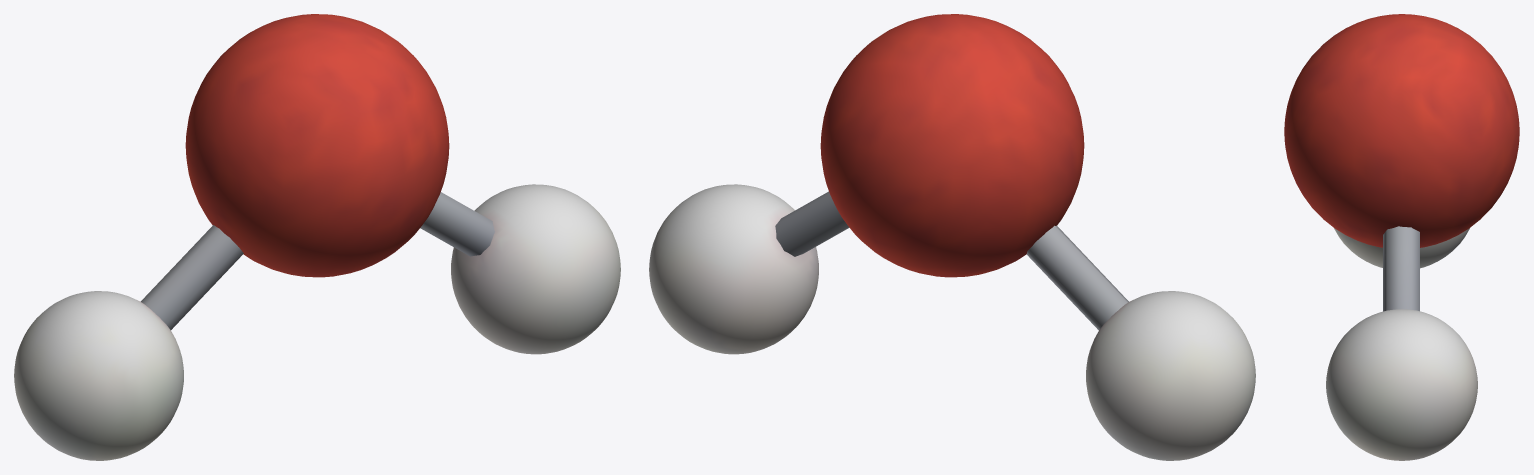
File: water-molecule.glb
The picture shows the model from 3 angles, left to right: view 1: azimuth 30°, elevation 25°; view 2: azimuth 150°, elevation 25°; view 3: azimuth 270°, elevation 25°; orthographic projection. The views are drawn at different scales.
Visible parts, largest first — view 1: water-molecule-oxygen, water-molecule-hydrogen, water-molecule-bonds; view 2: water-molecule-oxygen, water-molecule-hydrogen, water-molecule-bonds; view 3: water-molecule-oxygen, water-molecule-hydrogen, water-molecule-bonds.
Boxes of the visible parts, x1,y1,x2,y2 form: water-molecule-oxygen: (185,14,449,277); water-molecule-hydrogen: (14,184,620,460); water-molecule-bonds: (140,192,494,329); water-molecule-oxygen: (820,14,1084,277); water-molecule-hydrogen: (649,184,1255,460); water-molecule-bonds: (775,191,1128,330); water-molecule-oxygen: (1284,14,1519,247); water-molecule-hydrogen: (1326,228,1477,460); water-molecule-bonds: (1383,226,1419,311).
Size of what is drawn, in the model's own units: 3.17 by 1.94 by 1.24.
